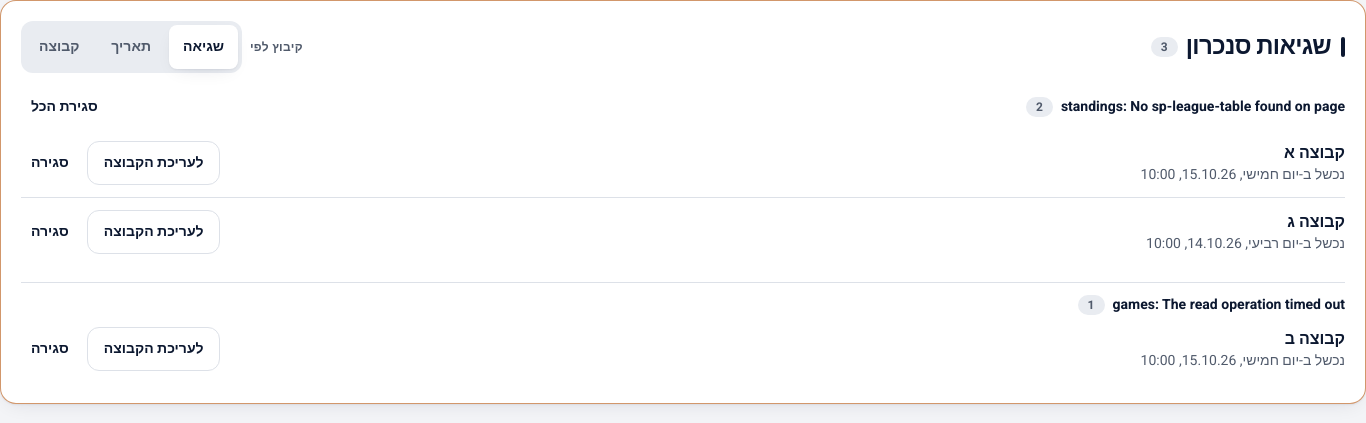
Test: SyncFailures › grouping › dismiss-all deletes every row in the group in one click
The image size is (1366, 423).
Click the button "סגירת הכל". click: (64, 107)
box: left=21, top=85, right=108, bottom=129
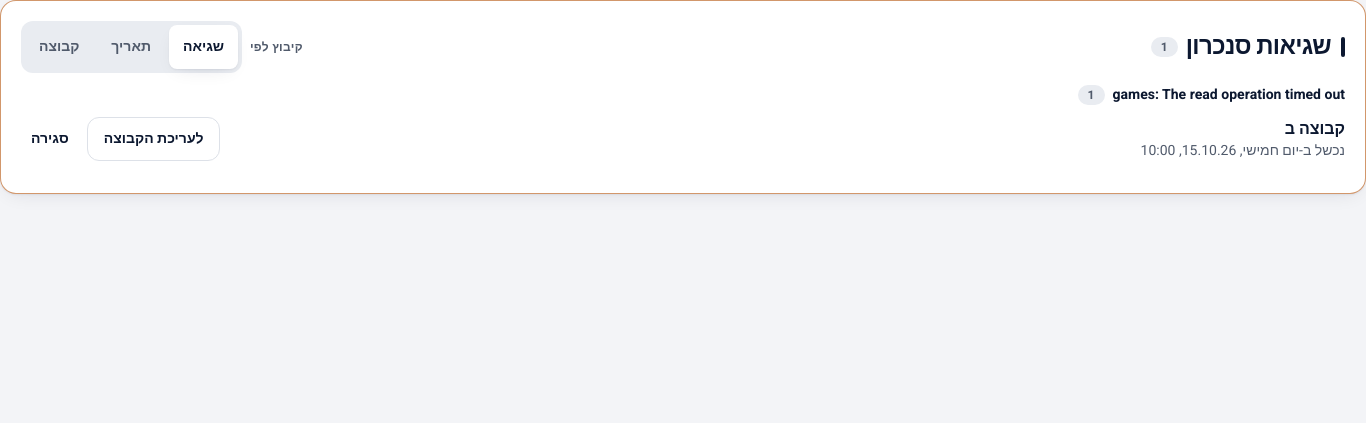
Expected: the text "קבוצה ב" is shown, left=1285, top=117, right=1345, bottom=141
Expected: the text "קבוצה א" is gone
Expected: the text "קבוצה ג" is gone
